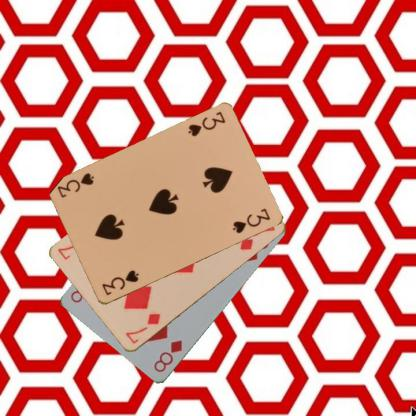3s: (99, 268, 140, 298), (185, 109, 226, 138)
7d: (123, 310, 162, 346)
8d: (151, 337, 184, 374)
